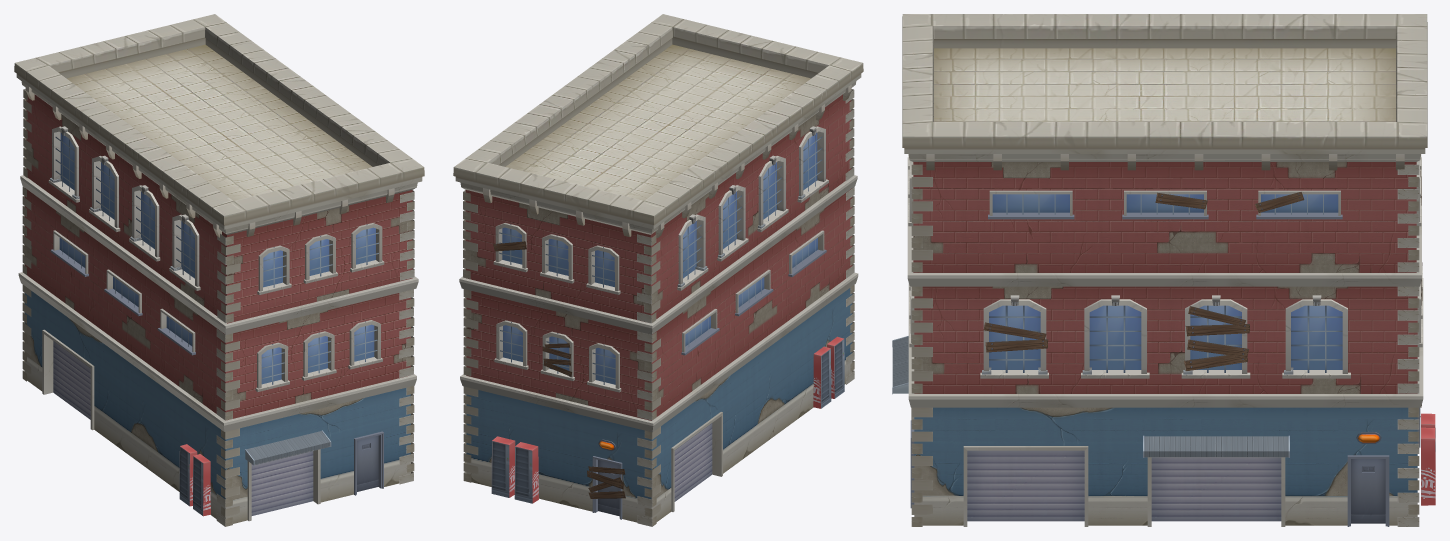
File: Building_03_1_LOD2.fbx
3 views of the same model, side by side, from view 1: azimuth 30°, elevation 25°; view 2: azimuth 150°, elevation 25°; view 3: azimuth 270°, elevation 25° (orthographic). The views are drawn at different scales.
Parts seen in each view (by area): view 1: polySurface3801; view 2: polySurface3801; view 3: polySurface3801.
Part boxes in pixels (x1,y1,x2,y2): polySurface3801: (14, 14, 424, 526); polySurface3801: (453, 14, 863, 526); polySurface3801: (892, 14, 1435, 526).
Bounding box in the file's own units: 762 × 1104 × 1374.
